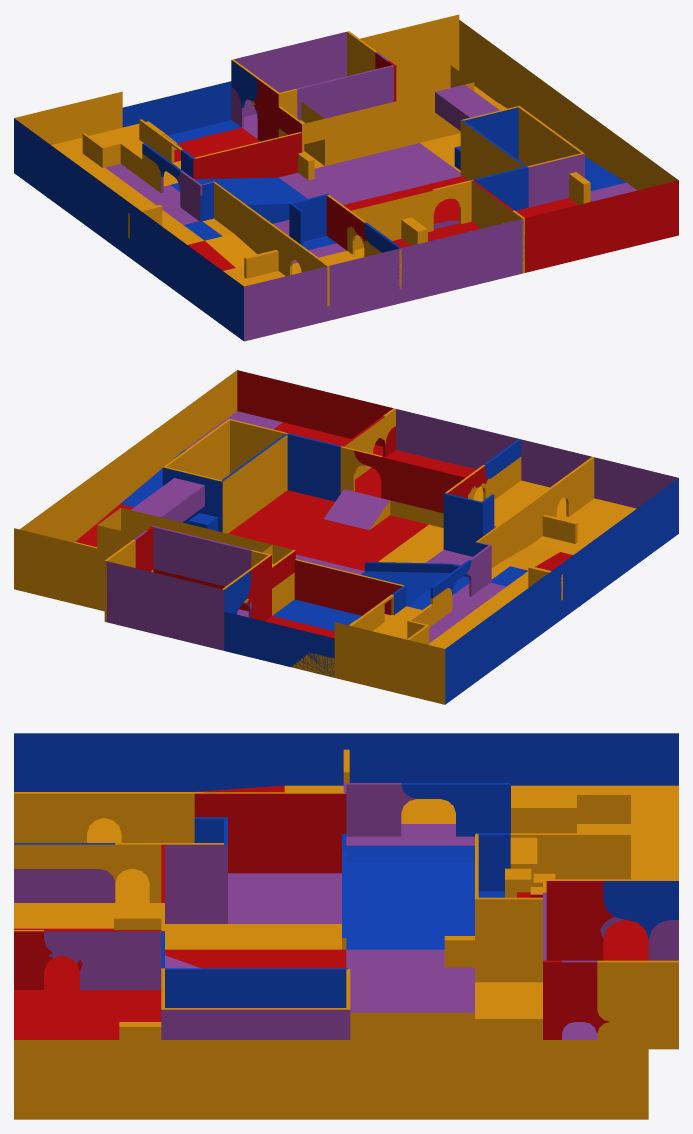
The model's file is ColoredMap.fbx.
3 renders of one model, top to bottom at view 1: azimuth 30°, elevation 25°; view 2: azimuth 150°, elevation 25°; view 3: azimuth 270°, elevation 25°, orthographic. The views are drawn at different scales.
Visible parts, largest first — view 1: ColoredMap; view 2: ColoredMap; view 3: ColoredMap.
Boxes of the visible parts, x1,y1,x2,y2 form: ColoredMap: (14,14,678,341); ColoredMap: (14,370,678,704); ColoredMap: (14,733,678,1119).
Bounding box in the file's own units: 4800 × 687 × 4400.
